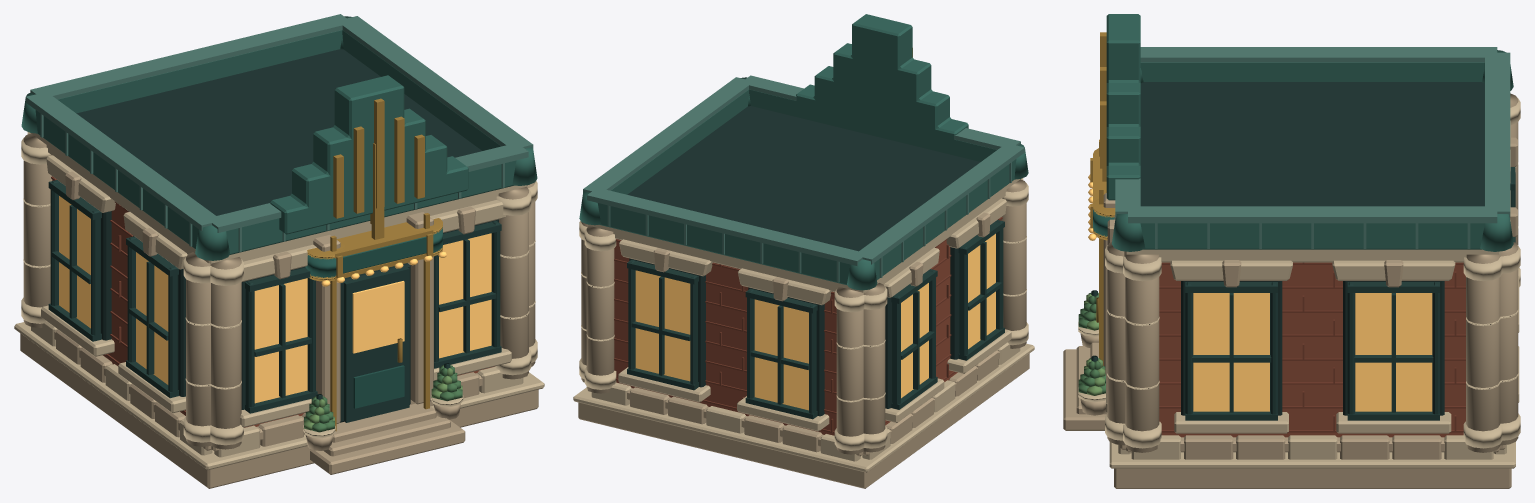
3 renders of one model, left to right at view 1: azimuth 30°, elevation 25°; view 2: azimuth 150°, elevation 25°; view 3: azimuth 270°, elevation 25°, orthographic. The views are drawn at different scales.
Visible parts, largest first — view 1: expansion_tower_1_geometry; view 2: expansion_tower_1_geometry; view 3: expansion_tower_1_geometry.
Boxes of the visible parts, left/top/right/bottom form: expansion_tower_1_geometry: left=14, top=14, right=544, bottom=488; expansion_tower_1_geometry: left=573, top=14, right=1034, bottom=488; expansion_tower_1_geometry: left=1063, top=14, right=1520, bottom=488.
Bounding box in the file's own units: 0.7918 × 0.78 × 0.8555.
